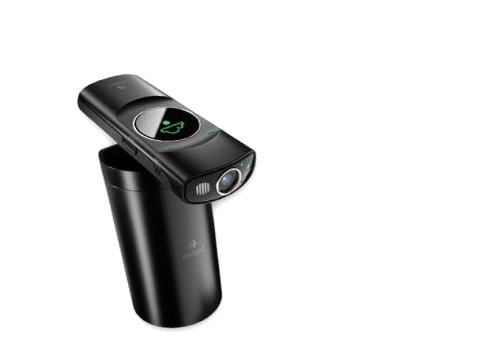webcam: (69, 68, 267, 215)
